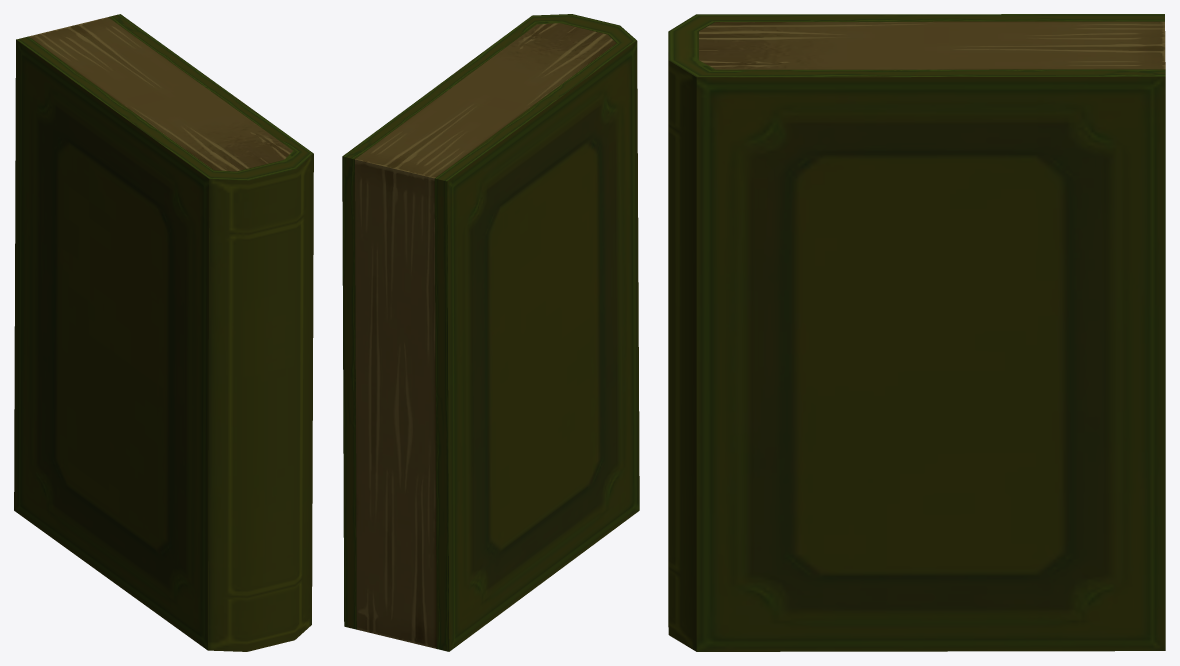
File: Book_Simplified_Single.glb
The picture shows the model from 3 angles, left to right: view 1: azimuth 30°, elevation 25°; view 2: azimuth 150°, elevation 25°; view 3: azimuth 270°, elevation 25°; orthographic projection. The views are drawn at different scales.
Visible parts, largest first — view 1: Book_Simplified_Single; view 2: Book_Simplified_Single; view 3: Book_Simplified_Single.
Boxes of the visible parts, x1,y1,x2,y2 form: Book_Simplified_Single: [14, 14, 313, 651]; Book_Simplified_Single: [342, 14, 639, 651]; Book_Simplified_Single: [668, 14, 1165, 651].
Bounding box in the file's own units: 0.0646 × 0.2683 × 0.21.
1 material, 1 textured.
